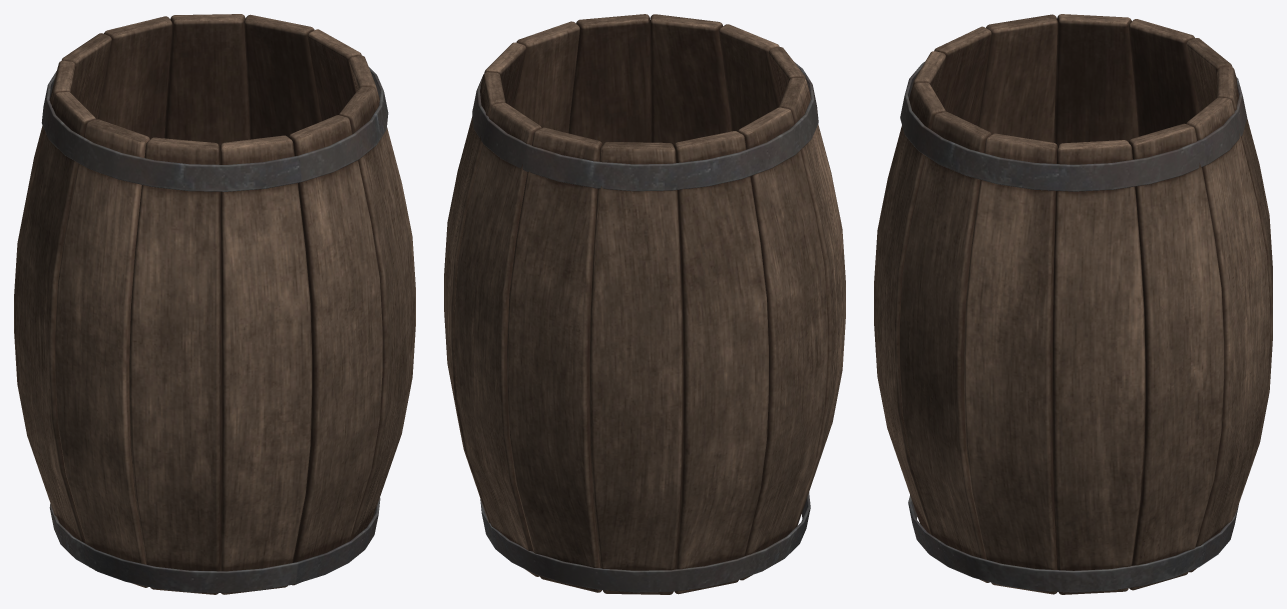
File: bochka.fbx
3 renders of one model, left to right at view 1: azimuth 30°, elevation 25°; view 2: azimuth 150°, elevation 25°; view 3: azimuth 270°, elevation 25°, orthographic.
Visible parts, largest first — view 1: FG BarellMedium.Shape; view 2: FG BarellMedium.Shape; view 3: FG BarellMedium.Shape.
Part boxes in pixels (x1,y1,x2,y2): FG BarellMedium.Shape: [14, 14, 415, 594]; FG BarellMedium.Shape: [444, 14, 845, 594]; FG BarellMedium.Shape: [874, 14, 1272, 594].
Size of the model in its own units: 33.32 by 41.26 by 33.07.
Materials: 1 (1 with a texture image).
